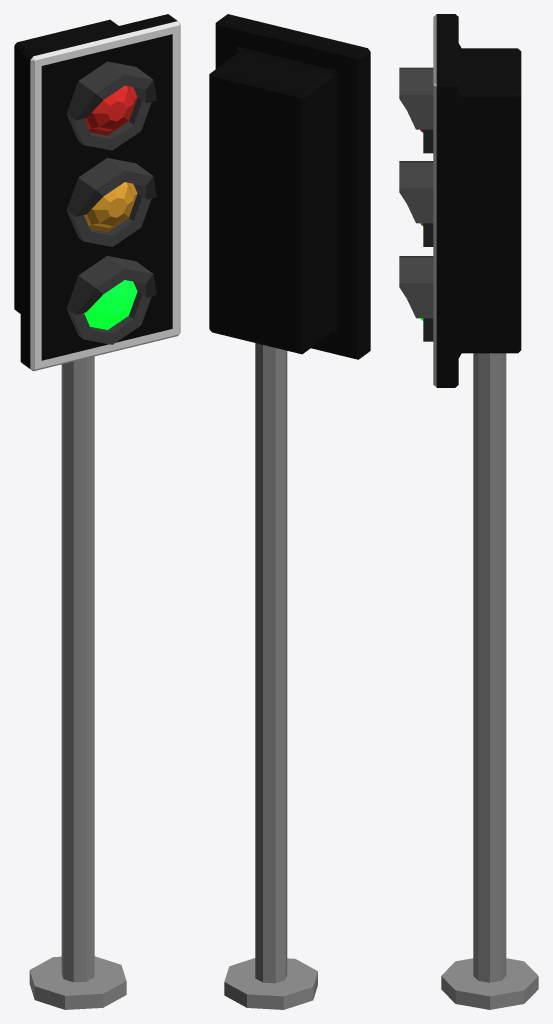
Rendered from traffic_light_green.fbx.
3 views of the same model, side by side, from view 1: azimuth 30°, elevation 25°; view 2: azimuth 150°, elevation 25°; view 3: azimuth 270°, elevation 25° (orthographic). The views are drawn at different scales.
Visible parts, largest first — view 1: Traffic Light; view 2: Traffic Light; view 3: Traffic Light.
Boxes of the visible parts, <box> form: Traffic Light: <box>14,14,180,1009</box>; Traffic Light: <box>209,14,370,1009</box>; Traffic Light: <box>399,14,538,1009</box>.
Size of the model in its own units: 120 by 741 by 99.18.
